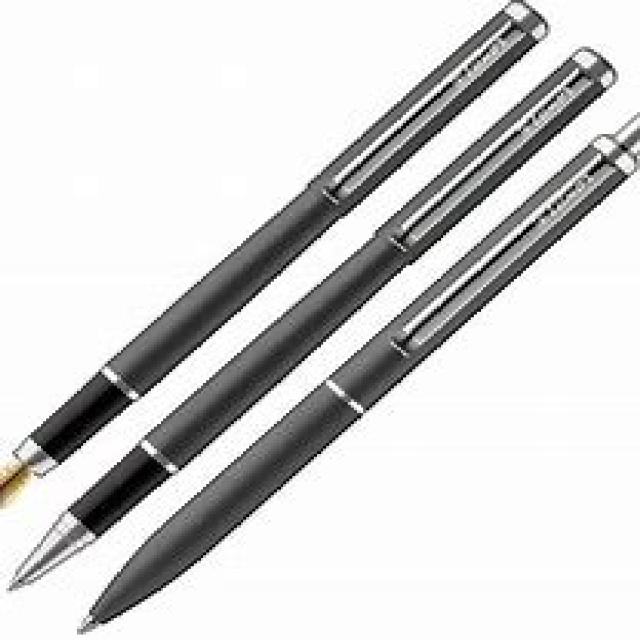pen: (1, 2, 640, 637)
